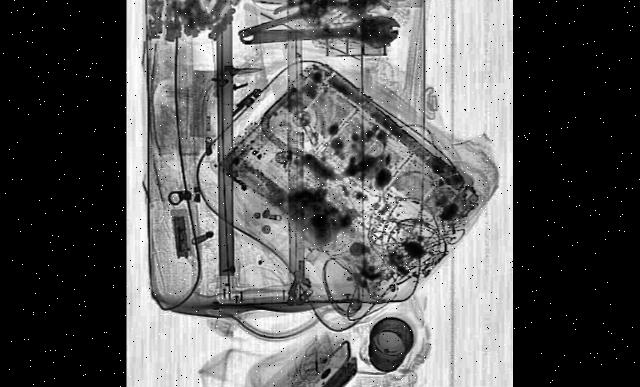Wrench: (239, 17, 402, 52)
